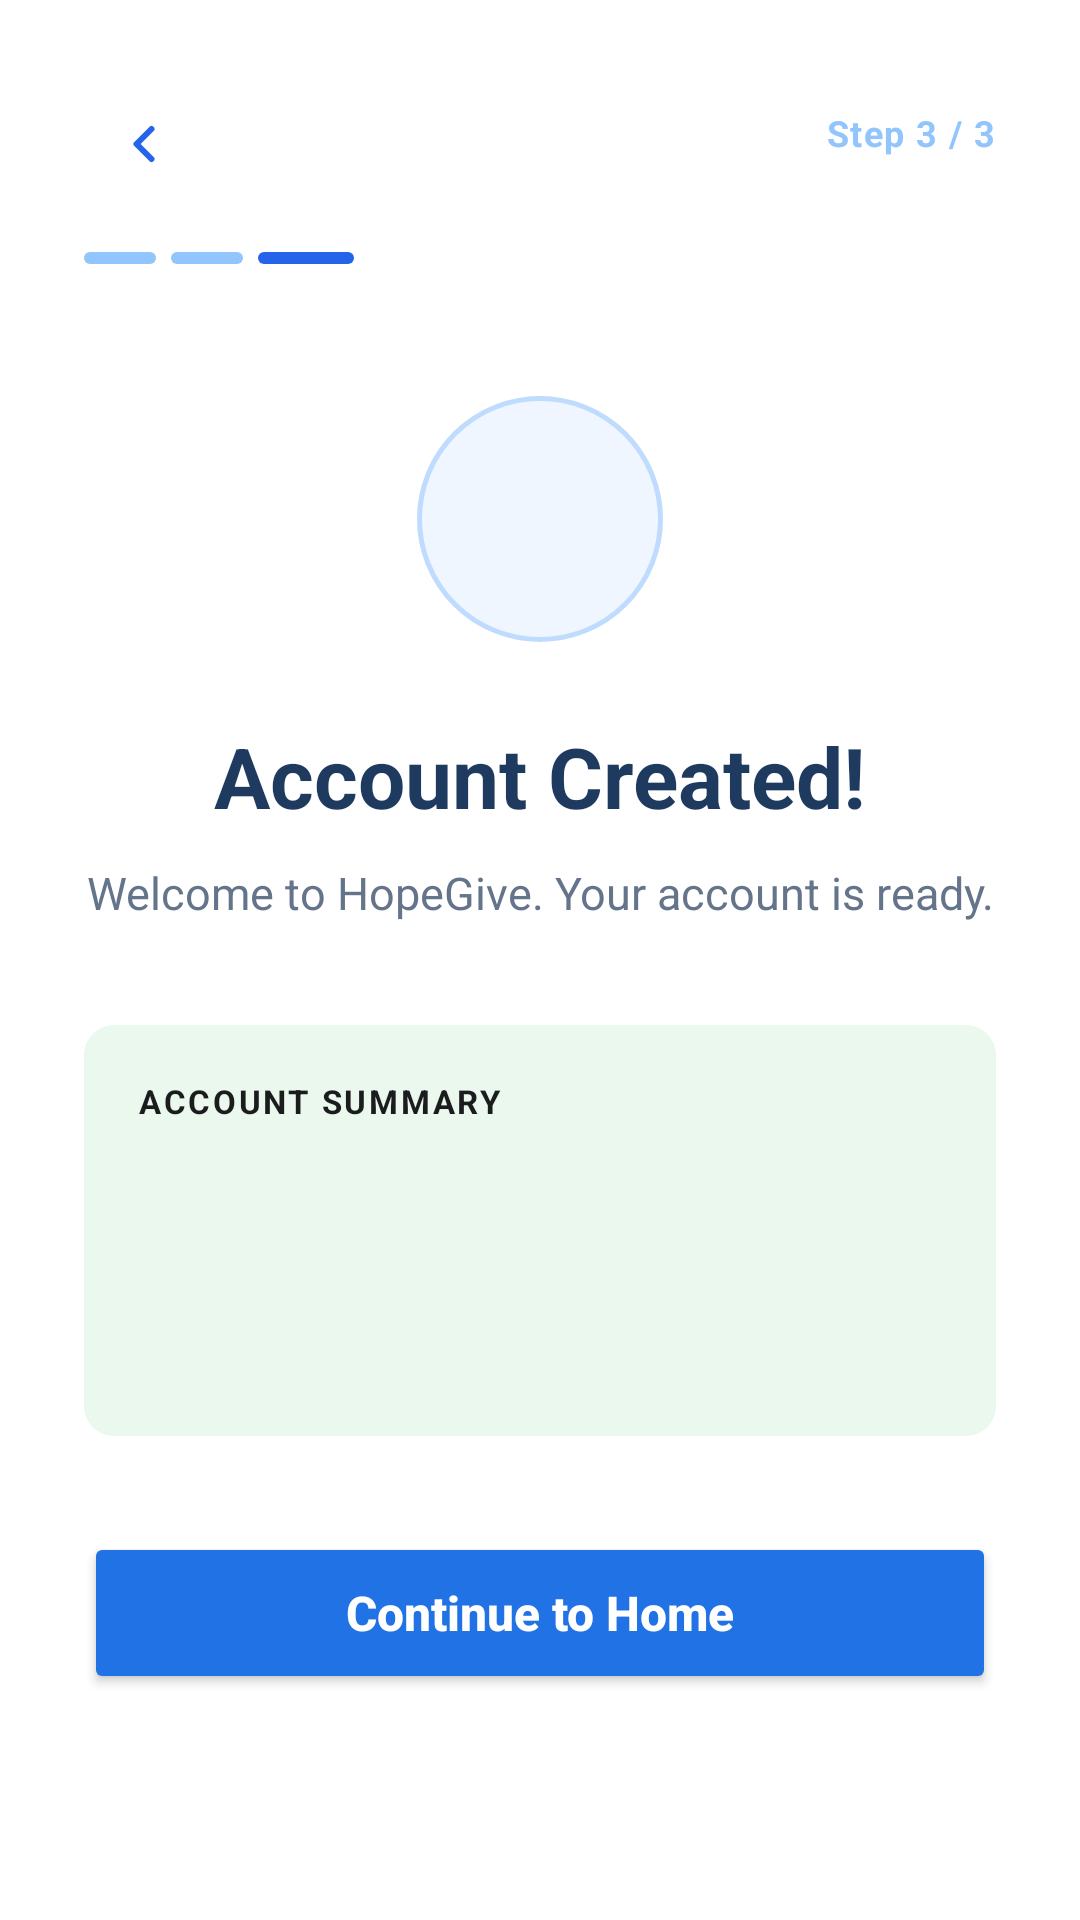

Named icons in this screenshot (1080w x 1920h) and their bounding boxes, (x1, y1, x2, y2):
Back: (133, 125, 155, 163)
